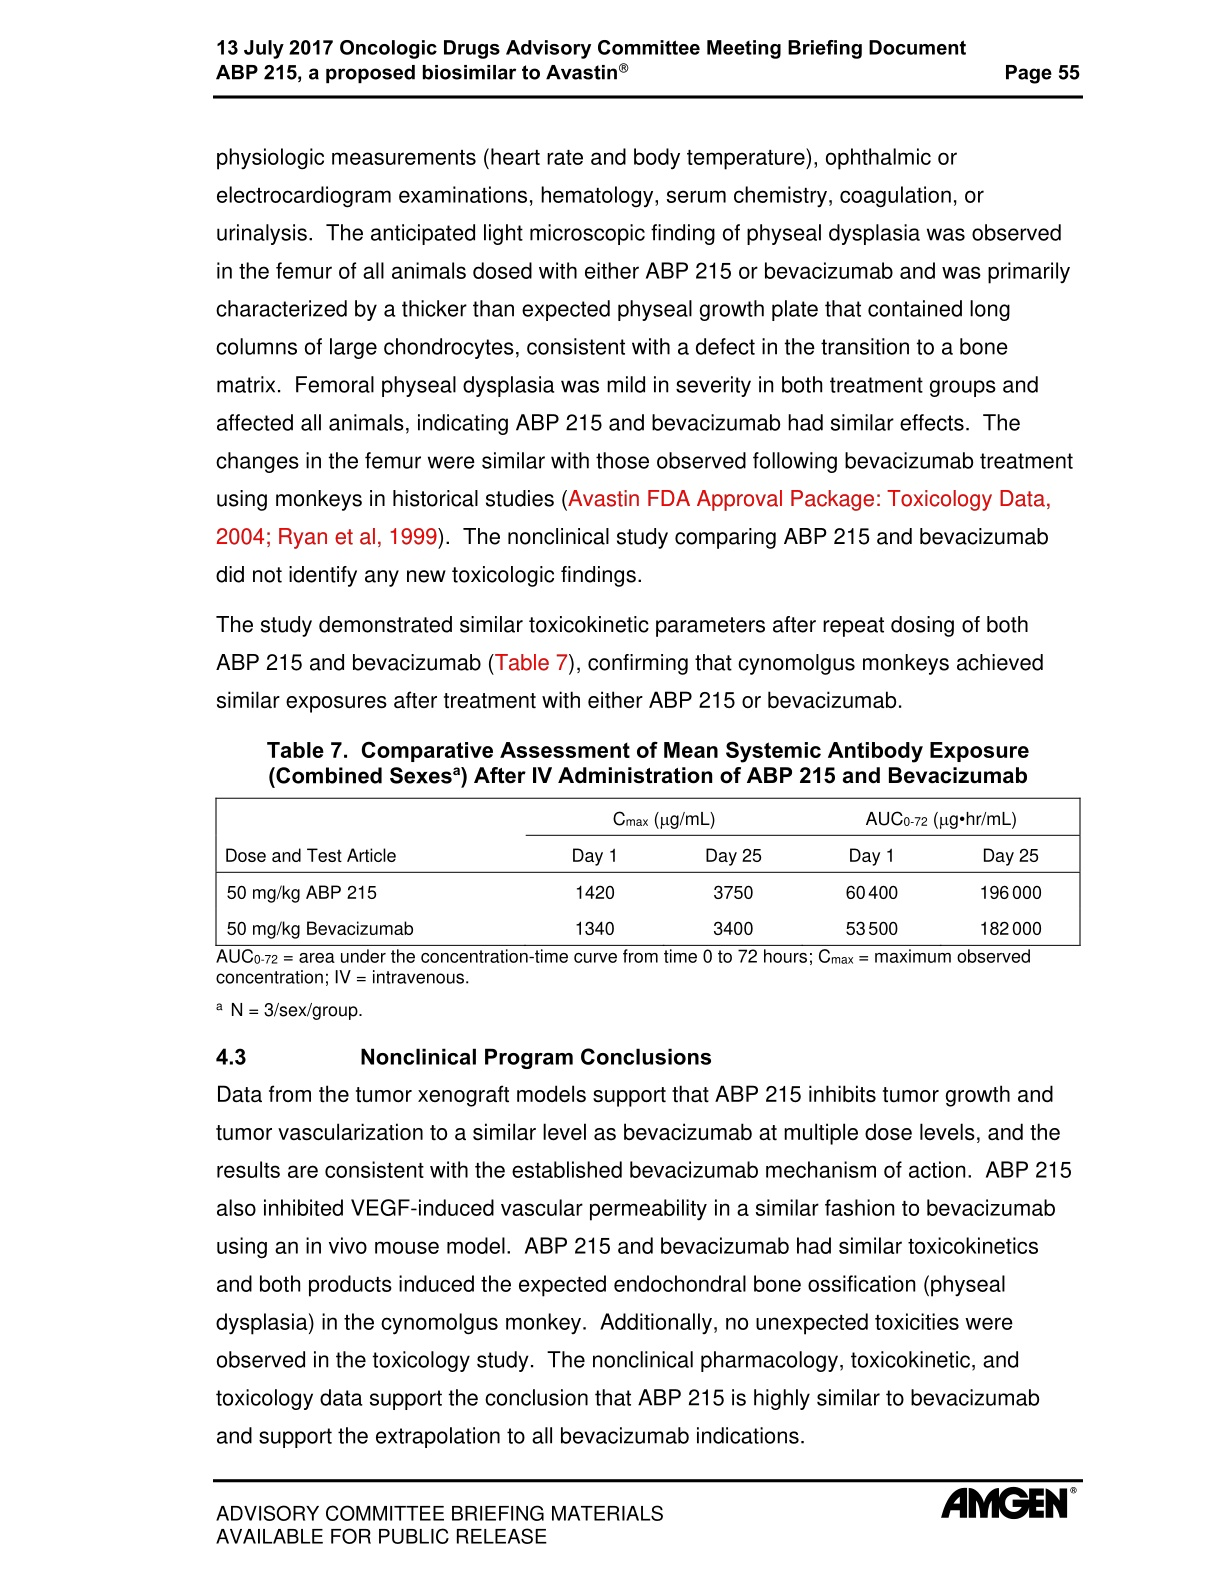partial_lined_merged_cells: (213, 797, 1081, 948)
